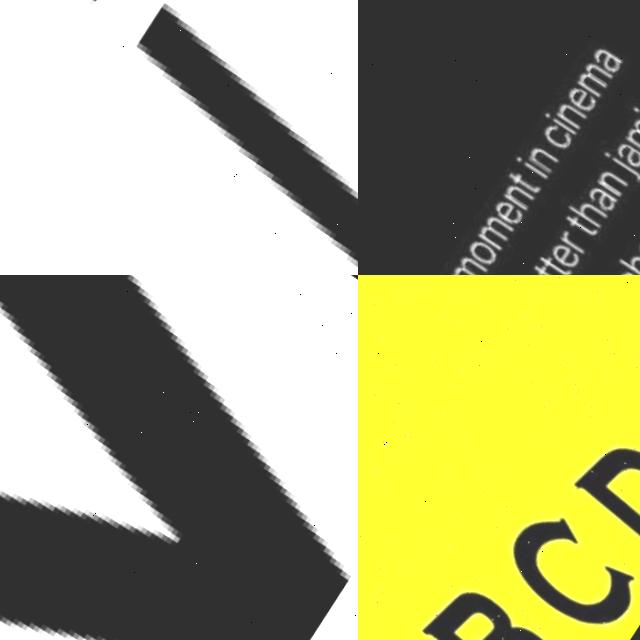0: (358, 420, 399, 606)
A: (586, 176, 623, 208), (592, 39, 623, 67), (614, 132, 640, 162)
C: (544, 116, 576, 145)
E: (563, 76, 600, 110), (493, 190, 530, 223), (550, 232, 587, 264), (528, 265, 565, 275)
H: (567, 187, 613, 223), (619, 238, 640, 273)
I: (516, 150, 553, 174), (545, 107, 579, 129), (632, 97, 640, 119)
J: (0, 0, 358, 275), (602, 142, 640, 173)
M: (574, 52, 616, 92), (478, 207, 519, 247), (453, 247, 494, 275), (624, 107, 640, 146)
N: (504, 176, 540, 207), (597, 160, 633, 191), (527, 137, 563, 168), (554, 93, 590, 123)
O: (467, 230, 505, 265), (615, 258, 640, 275)
R: (562, 225, 590, 246)
T: (540, 245, 577, 275), (566, 204, 602, 231), (509, 165, 544, 190), (535, 256, 571, 275)
V: (0, 275, 358, 640)
